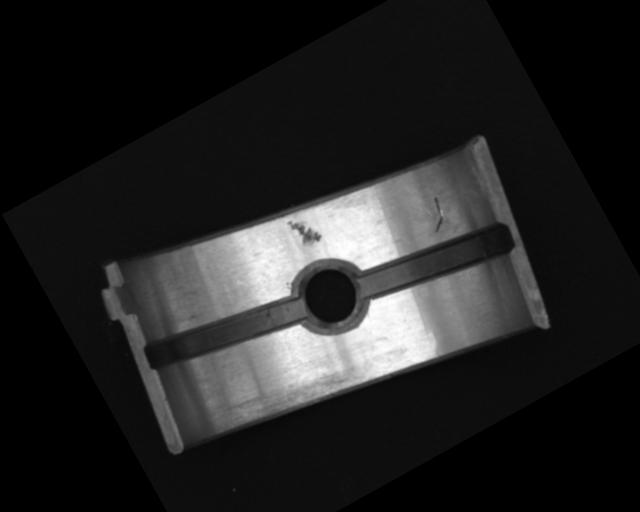bruise: (285, 210, 323, 252)
gap: (140, 270, 309, 395), (353, 202, 517, 324)
hole: (283, 249, 378, 344)
nick: (420, 195, 453, 233)
scratch: (226, 342, 367, 446)
